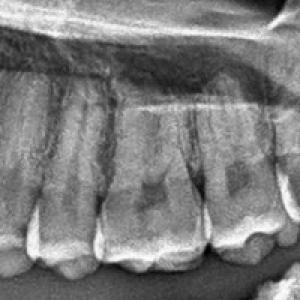tooth: (96, 94, 208, 276), (202, 70, 298, 266), (27, 85, 101, 280)
